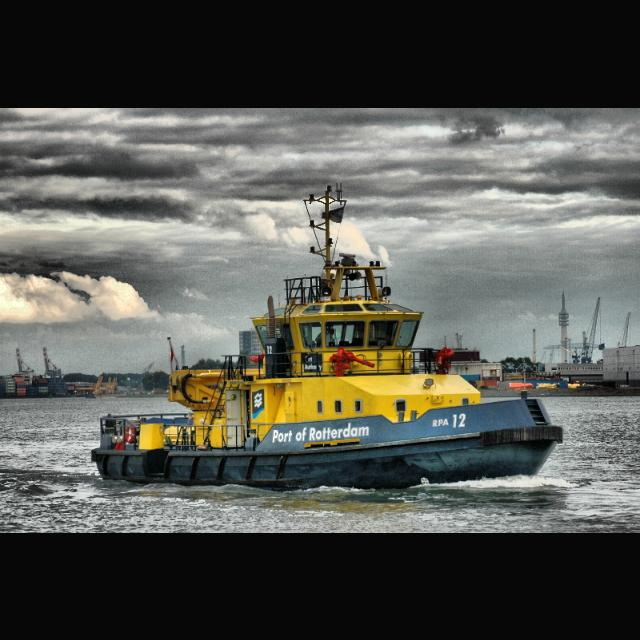patrol_vessel: (85, 251, 567, 493)
